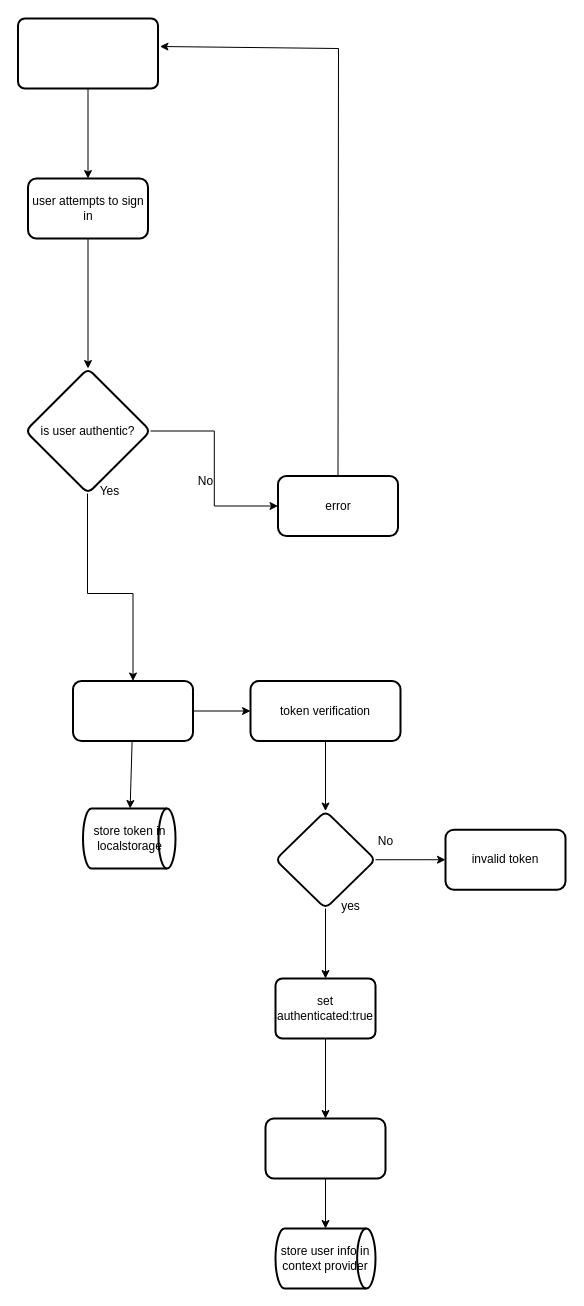
Image size: 584x1306. Some labels were removed from this diagram. Here are the shapes that lost their labels. From the top down, the centre of each, then its label:
point 87,53: start
point 133,711: token given
point 325,859: is token valid?
point 325,1148: user information given
